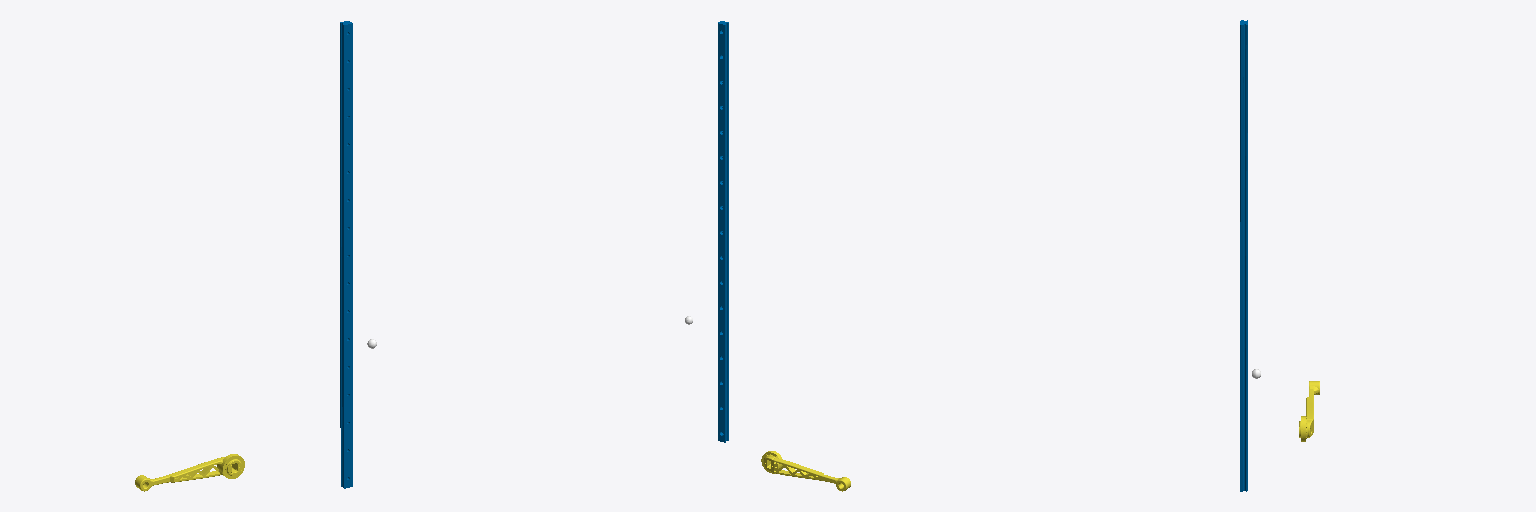
The robot description file, URDF, robot "softlegisaac":
<?xml version="1.0"?>
<robot name="softlegisaac">
<link name="world"/>
  <joint name="fixed" type="fixed">
      <origin xyz="0. 0. 0.02" rpy="1.57 0. 0."/>
      <parent link="world"/>
      <child link="softleg_1_cart_link"/>
  </joint>
  <joint name="softleg_1_cart_joint" type="prismatic">
      <origin xyz="0. 0.2102 0. " rpy="0.0 0.0 0.0 "/>
      <!-- <origin xyz="0. 0.2102 0. " rpy="0.0 0.0 3.14 "/> -->
      <parent link="softleg_1_cart_link"/>
      <child link="softleg_1_base_link"/>
      <axis xyz="0 1 0"/>
      <joint_properties damping=".0" friction="0.4"/>
      <limit lower="0.0" upper="2.0" effort="0." velocity="300."/>
  </joint>
  <joint name="softleg_1_ball_pseudo_joint" type="fixed">
    <origin xyz="0.072 0.0507 -0.0164 " rpy="0. 0. 0. "/>
    <parent link="softleg_1_base_link"/>
    <child link="softleg_1_ball_pseudo_link"/>
    <axis xyz="1 0 0"/>
    <limit lower="-3.1415927" upper="3.1415927" effort="11." velocity="100."/>
    </joint>
  

  
  <joint name="softleg_1_knee_joint" type="revolute">
    <origin xyz="0.0 -0.19 -0.0498 " rpy="0. 0. 0. "/>
    <parent link="softleg_1_thigh_link"/>
    <child link="softleg_1_calf_link"/>
    <axis xyz="1 0 0"/>
    <limit lower="-3.1415927" upper="3.1415927" effort="11." velocity="100."/>
  </joint> 

  <joint name="softleg_1_hip_joint" type="revolute">
    <origin xyz="0.0 -0.19 -0.0498 " rpy="0. 0.0 -1.57 "/>
    <parent link="softleg_1_base_link"/>
    <child link="softleg_1_thigh_link"/>
    <axis xyz="0 0 -1"/>
    <limit lower="-3.1415927" upper="3.1415927" effort="11." velocity="100."/>
  </joint>

 <link name="softleg_1_base_link">
    <inertial>
      <origin xyz="0. 0. 0." rpy="0. 0. 0.0"/>
      <mass value="1.2642768"/> 
      <inertia ixx="1.0129150e-02" ixy="-1.2788286e-05" ixz="-1.8432118e-05" iyy="1.9134757e-03" iyz="-1.4317404e-03" izz="9.9843305e-03"/>
    </inertial>
    <visual>
      <origin xyz="0. 0. 0." rpy="0. 0. 0."/>
      <geometry>
      <mesh filename="package://softleg_description/meshes/hip.stl" scale="0.001 0.001 0.001"/>
      </geometry>
    </visual>
    <collision>
    <origin xyz="0.0 0.0 0.0 " rpy="0. 0. 0.0"/>
      <geometry>
        <mesh filename="package://softleg_description/meshes/hip.stl" scale="0.001 0.001 0.001"/>
      </geometry>
   
    </collision>
  </link> 

  <link name="softleg_1_ball_pseudo_link">
    <inertial>
      <origin xyz="0. 0. 0." rpy="0. 0. 0."/>
      <mass value="0.001"/>
      <inertia ixx="0.0001" ixy="0.0" ixz="0.0" iyy="0.0001" iyz="0" izz="0.0001"/>
    </inertial>
    <visual>
      <origin xyz="0. 0. 0. " rpy="0. 0. 0."/>
      <geometry>
        <sphere radius="0.0095" />
      </geometry>
      <material name="gino">
        <color rgba="1 1 1 1"/>
      </material>
    </visual>
    <collision>
    <origin xyz="0. 0. 0. " rpy="0. 0. 0."/>
      <geometry>
        <sphere radius="0.0095"/>
      </geometry>
    </collision>
  </link>

  <link name="softleg_1_calf_link">
    <inertial>
      <origin xyz="0. 0. 0." rpy="0. 0. 0."/>
      <mass value="9.1088559e-02"/>
      <inertia ixx="7.3660432e-04" ixy="7.8245712e-09" ixz="1.9809329e-09" iyy="4.1085061e-05" iyz="-1.2377630e-04" izz="7.1489058e-04"/>
    </inertial>
    <visual>
      <origin xyz="0. 0. 0." rpy="0. 0. 0. "/>
      <geometry>
        <mesh filename="package://softleg_description/meshes/lower_leg_update.stl" scale="0.001 0.001 0.001"/>
      </geometry>
    </visual>
     <collision>
    <origin xyz="0.0 0. 0." rpy="0. 0 0. "/>
      <geometry>
        <sphere radius="0.015"/>
      </geometry>
  
    </collision> 

  </link>

  <link name="softleg_1_cart_link">
    <inertial>
      <origin xyz="0. 0.0 0." rpy="0. 0. 0."/>
      <mass value="40000000000000"/>
      <inertia ixx="7.8849610e-03" ixy="-1.2902140e-05" ixz="-2.5530569e-06" iyy="9.8307563e-04" iyz="-1.6230231e-03" izz="7.1995637e-03"/>
    </inertial>
    <visual>
      <origin xyz="0. 0. 0." rpy="0. 0. 0.0"/>
      <geometry>
        <mesh filename="package://softleg_description/meshes/sxr28_1000_r.stl" scale="0.001 0.001 0.001"/>
      </geometry>
    <collision>
        <origin xyz="0. 0. 0." rpy="0. 0. 0.0"/>
      <geometry>
        <mesh filename="package://softleg_description/meshes/sxr28_1000_r.stl" scale="0.001 0.001 0.001"/>
      </geometry>
    </collision>
    </visual>

  </link>
  <link name="softleg_1_thigh_link">
    <inertial>
      <origin xyz="0. 0. 0." rpy="0. 0. 0."/>
      <mass value="5.9301106e-01"/>
      <inertia ixx="1" ixy="0.01" ixz="0.01" iyy="1" iyz="0.01" izz="1"/>
    </inertial>
    <visual>
      <origin xyz="0. 0. 0." rpy="0. 0. 0.0"/>
      <geometry>
        <mesh filename="package://softleg_description/meshes/knee.stl" scale="0.001 0.001 0.001"/>
      </geometry>
    </visual>
    <collision>
    <origin xyz="0. 0. 0." rpy="0. 0. 0.0"/>
      <geometry>
        <mesh filename="package://softleg_description/meshes/knee.stl" scale="0.001 0.001 0.001"/>
      </geometry>
    </collision>
  </link> 



</robot>

--- Facts derived from the render (not from the file) ---
3 views of the same robot in one strip: view 1: azimuth 30°, elevation 25°; view 2: azimuth 150°, elevation 25°; view 3: azimuth 270°, elevation 25° (orthographic).
Robot: softlegisaac — 6 links, 5 joints (2 revolute, 1 prismatic, 2 fixed); root link world; default pose: all joints at 0.
Links seen in each view (by area): view 1: softleg_1_cart_link, softleg_1_calf_link; view 2: softleg_1_cart_link, softleg_1_calf_link; view 3: softleg_1_cart_link, softleg_1_calf_link.
Link boxes in pixels (bbox=[...]): softleg_1_cart_link: bbox=[340, 21, 352, 488]; softleg_1_calf_link: bbox=[135, 454, 244, 491]; softleg_1_cart_link: bbox=[718, 21, 728, 442]; softleg_1_calf_link: bbox=[761, 451, 850, 491]; softleg_1_cart_link: bbox=[1240, 20, 1247, 491]; softleg_1_calf_link: bbox=[1299, 381, 1319, 441].
Size in the robot's own frame: 0.475 by 0.1555 by 1 metres.
2 mesh visuals loaded from 4 distinct referenced files (2 binary STL); not drawn: 2 (reference not matched to a file when rendering).
